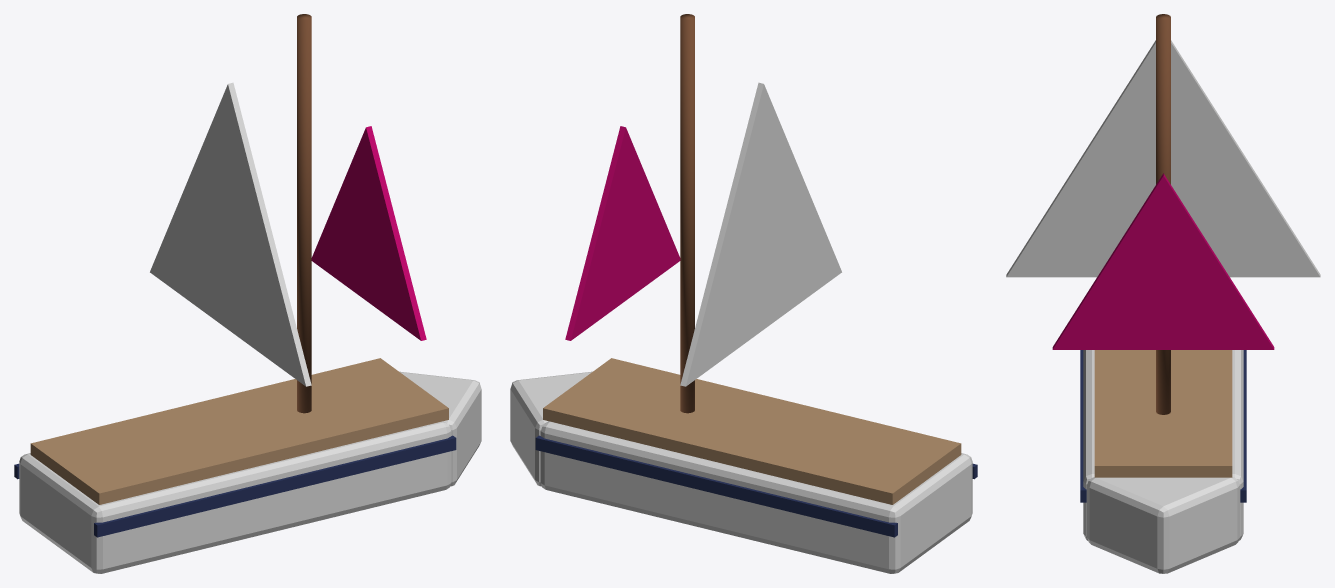
Rendered from boat_sail.glb.
The picture shows the model from 3 angles, left to right: view 1: azimuth 30°, elevation 25°; view 2: azimuth 150°, elevation 25°; view 3: azimuth 270°, elevation 25°; orthographic projection.
Parts seen in each view (by area): view 1: boat_sail; view 2: boat_sail; view 3: boat_sail.
Boxes of the visible parts, left/top/right/bottom form: boat_sail: left=14, top=14, right=481, bottom=573; boat_sail: left=510, top=14, right=977, bottom=573; boat_sail: left=1006, top=14, right=1320, bottom=573.
Bounding box in the file's own units: 0.4617 × 0.49 × 0.2944.
